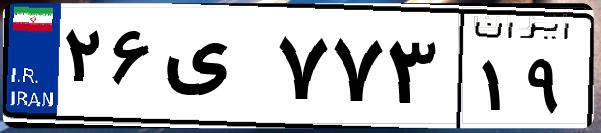1: (475, 38, 525, 113)
2: (57, 26, 110, 100)
3: (385, 28, 445, 110)
6: (110, 28, 158, 98)
7: (270, 28, 330, 110), (330, 28, 385, 110)
9: (525, 38, 570, 115)
ی: (158, 20, 270, 120)
